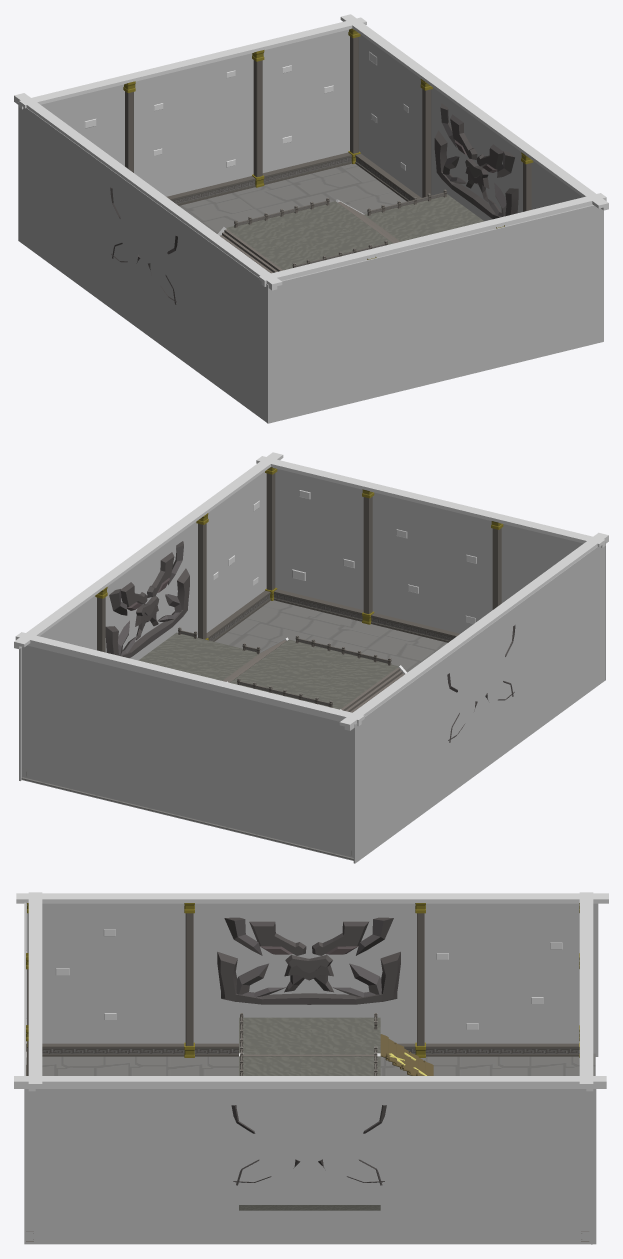
Rendered from main05.fbx.
The picture shows the model from 3 angles, top to bottom: view 1: azimuth 30°, elevation 25°; view 2: azimuth 150°, elevation 25°; view 3: azimuth 270°, elevation 25°; orthographic projection. The views are drawn at different scales.
Parts seen in each view (by area): view 1: 벽, Box110, Box109, 1, Object127, Box113, Object128, fence005, Object129, Object132; view 2: 벽, Box110, Box109, 1, Object127, Box113, Object128, fence005, Object129, Object132; view 3: 벽, Box110, Box112, Box109, 1, Object128, Object127, Object125, Object129, Box113.
Boxes of the visible parts, bbox=[...] form: 벽: bbox=[18, 29, 603, 423]; Box110: bbox=[14, 14, 608, 290]; Box109: bbox=[226, 194, 483, 270]; 1: bbox=[179, 163, 406, 233]; Object127: bbox=[123, 28, 533, 259]; Box113: bbox=[434, 103, 518, 219]; Object128: bbox=[166, 152, 420, 205]; fence005: bbox=[234, 189, 446, 267]; Object129: bbox=[84, 51, 408, 170]; Object132: bbox=[220, 229, 282, 273]; 벽: bbox=[19, 469, 605, 863]; Box110: bbox=[14, 452, 608, 730]; Box109: bbox=[138, 632, 398, 709]; 1: bbox=[21, 600, 447, 859]; Object127: bbox=[95, 467, 503, 652]; Box113: bbox=[105, 541, 189, 658]; Object128: bbox=[22, 589, 459, 855]; fence005: bbox=[178, 627, 391, 707]; Object129: bbox=[213, 490, 476, 623]; Object132: bbox=[341, 668, 404, 712]; 벽: bbox=[24, 902, 598, 1244]; Box110: bbox=[14, 892, 608, 1091]; Box112: bbox=[217, 917, 400, 1004]; Box109: bbox=[239, 1017, 380, 1210]; 1: bbox=[42, 1053, 595, 1075]; Object128: bbox=[26, 1043, 589, 1241]; Object127: bbox=[26, 903, 579, 1075]; Object125: bbox=[380, 1034, 433, 1075]; Object129: bbox=[26, 929, 562, 1064]; Box113: bbox=[231, 1105, 386, 1185].
Bounding box in the file's own units: 3117 × 1235 × 4088.
